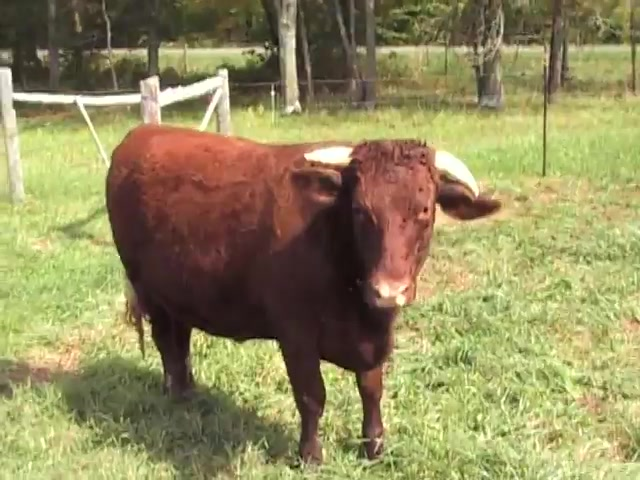cow: (107, 121, 503, 467)
